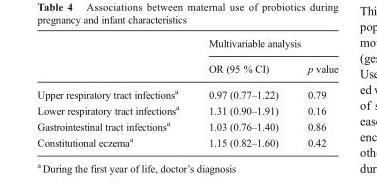table: (36, 36, 337, 148)
table column: (36, 36, 193, 148), (193, 36, 292, 148), (292, 36, 337, 148)
table column header: (36, 36, 337, 80)
table row: (36, 55, 337, 80), (36, 80, 337, 101), (36, 36, 337, 55), (36, 101, 337, 117), (36, 117, 337, 133), (36, 133, 337, 148)
table spanning cell: (193, 36, 337, 55)
